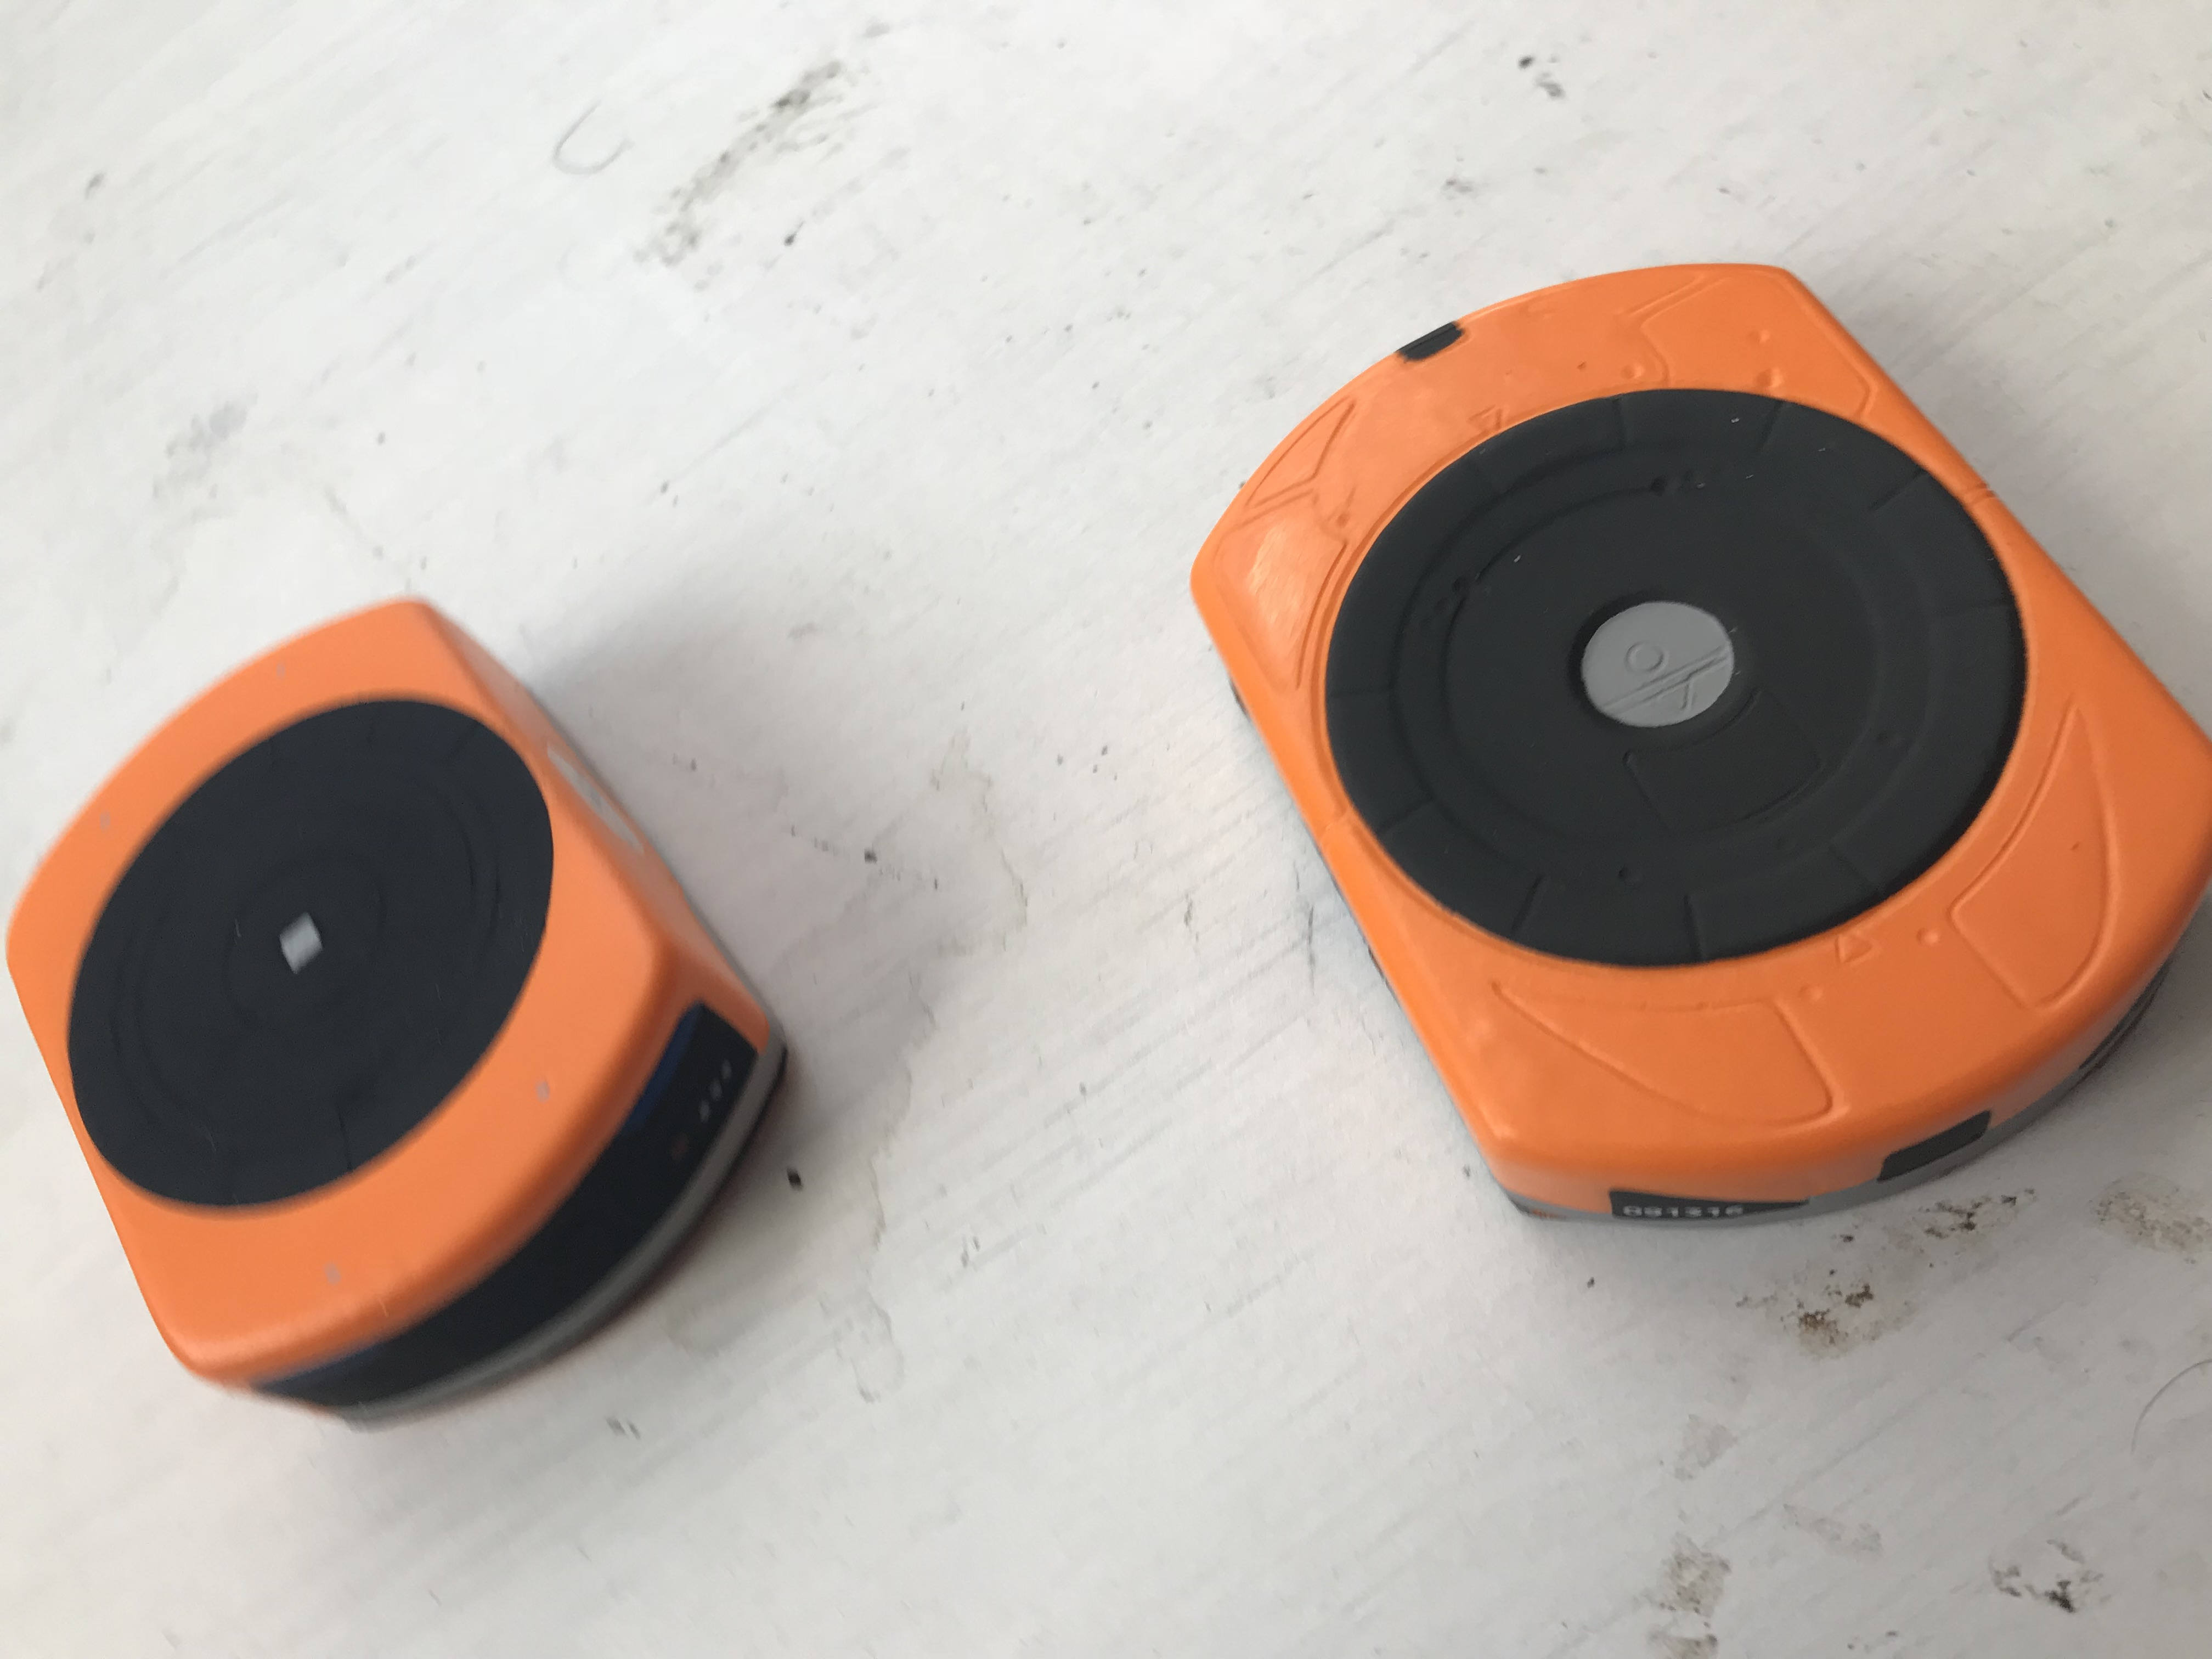amazon_bot: (1141, 256, 2212, 1241), (0, 587, 820, 1420)
